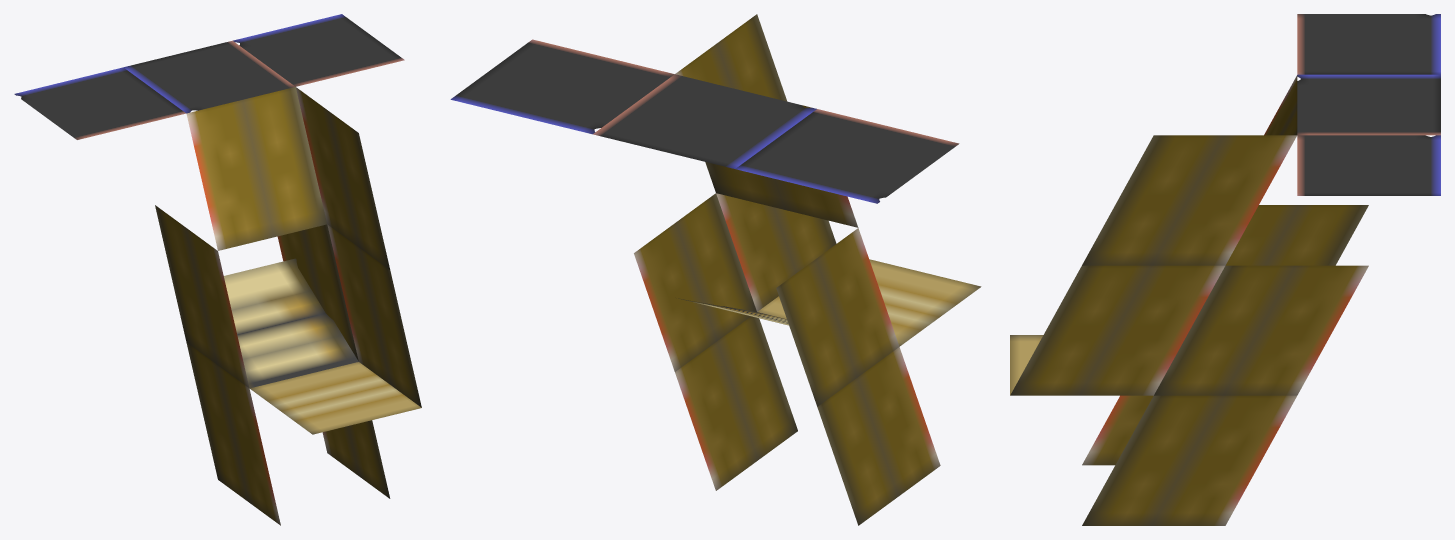
The model's file is tile_indoors_wall_5.obj.
The picture shows the model from 3 angles, left to right: view 1: azimuth 30°, elevation 25°; view 2: azimuth 150°, elevation 25°; view 3: azimuth 270°, elevation 25°; orthographic projection. The views are drawn at different scales.
Parts seen in each view (by area): view 1: Default; view 2: Default; view 3: Default.
Part boxes in pixels (x1,y1,x2,y2): Default: (14,14,421,525); Default: (450,14,981,525); Default: (1010,14,1440,525).
Size of the model in its own units: 3 by 3 by 3.
